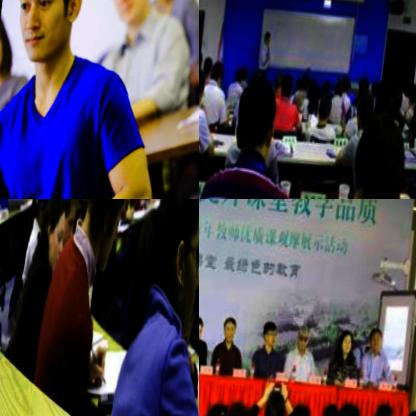head: (140, 199, 199, 340), (6, 0, 93, 65), (75, 199, 142, 283), (350, 105, 409, 199), (230, 73, 282, 166), (36, 199, 66, 274), (99, 0, 154, 31), (50, 199, 81, 249), (352, 89, 374, 121), (261, 386, 284, 416), (313, 89, 333, 123), (31, 199, 52, 230), (291, 325, 310, 357), (367, 394, 393, 416), (207, 59, 226, 89), (258, 319, 277, 347), (317, 396, 342, 416), (388, 84, 406, 109), (375, 74, 393, 99), (366, 324, 382, 352), (219, 316, 235, 343), (336, 331, 352, 358), (199, 60, 207, 109), (279, 69, 292, 99), (199, 401, 225, 416), (286, 401, 311, 416), (270, 67, 284, 93), (330, 75, 344, 100), (338, 401, 361, 416), (318, 74, 330, 96), (200, 53, 211, 76), (298, 67, 309, 90), (307, 73, 318, 94), (393, 405, 414, 416), (406, 79, 416, 99), (232, 64, 241, 84), (294, 69, 303, 89), (339, 72, 349, 90), (262, 28, 272, 44), (239, 62, 248, 77)
